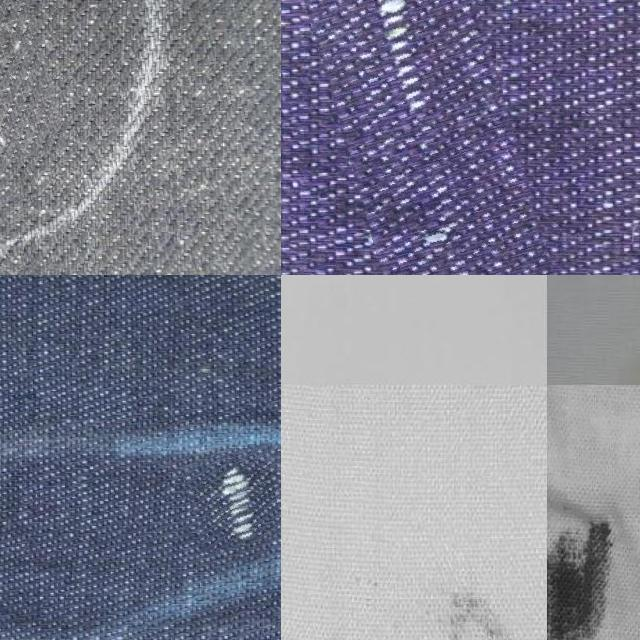Thread_other: (547, 493, 640, 640), (409, 570, 539, 640), (550, 320, 640, 384)
stains: (281, 0, 521, 275), (185, 447, 281, 551)
